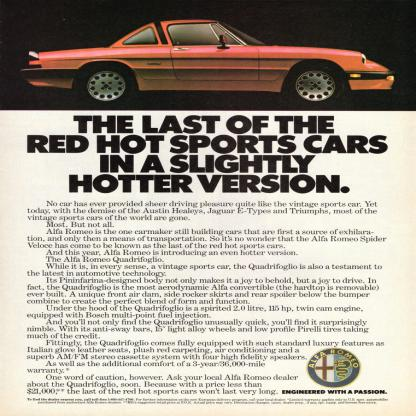Car: (14, 17, 398, 105)
